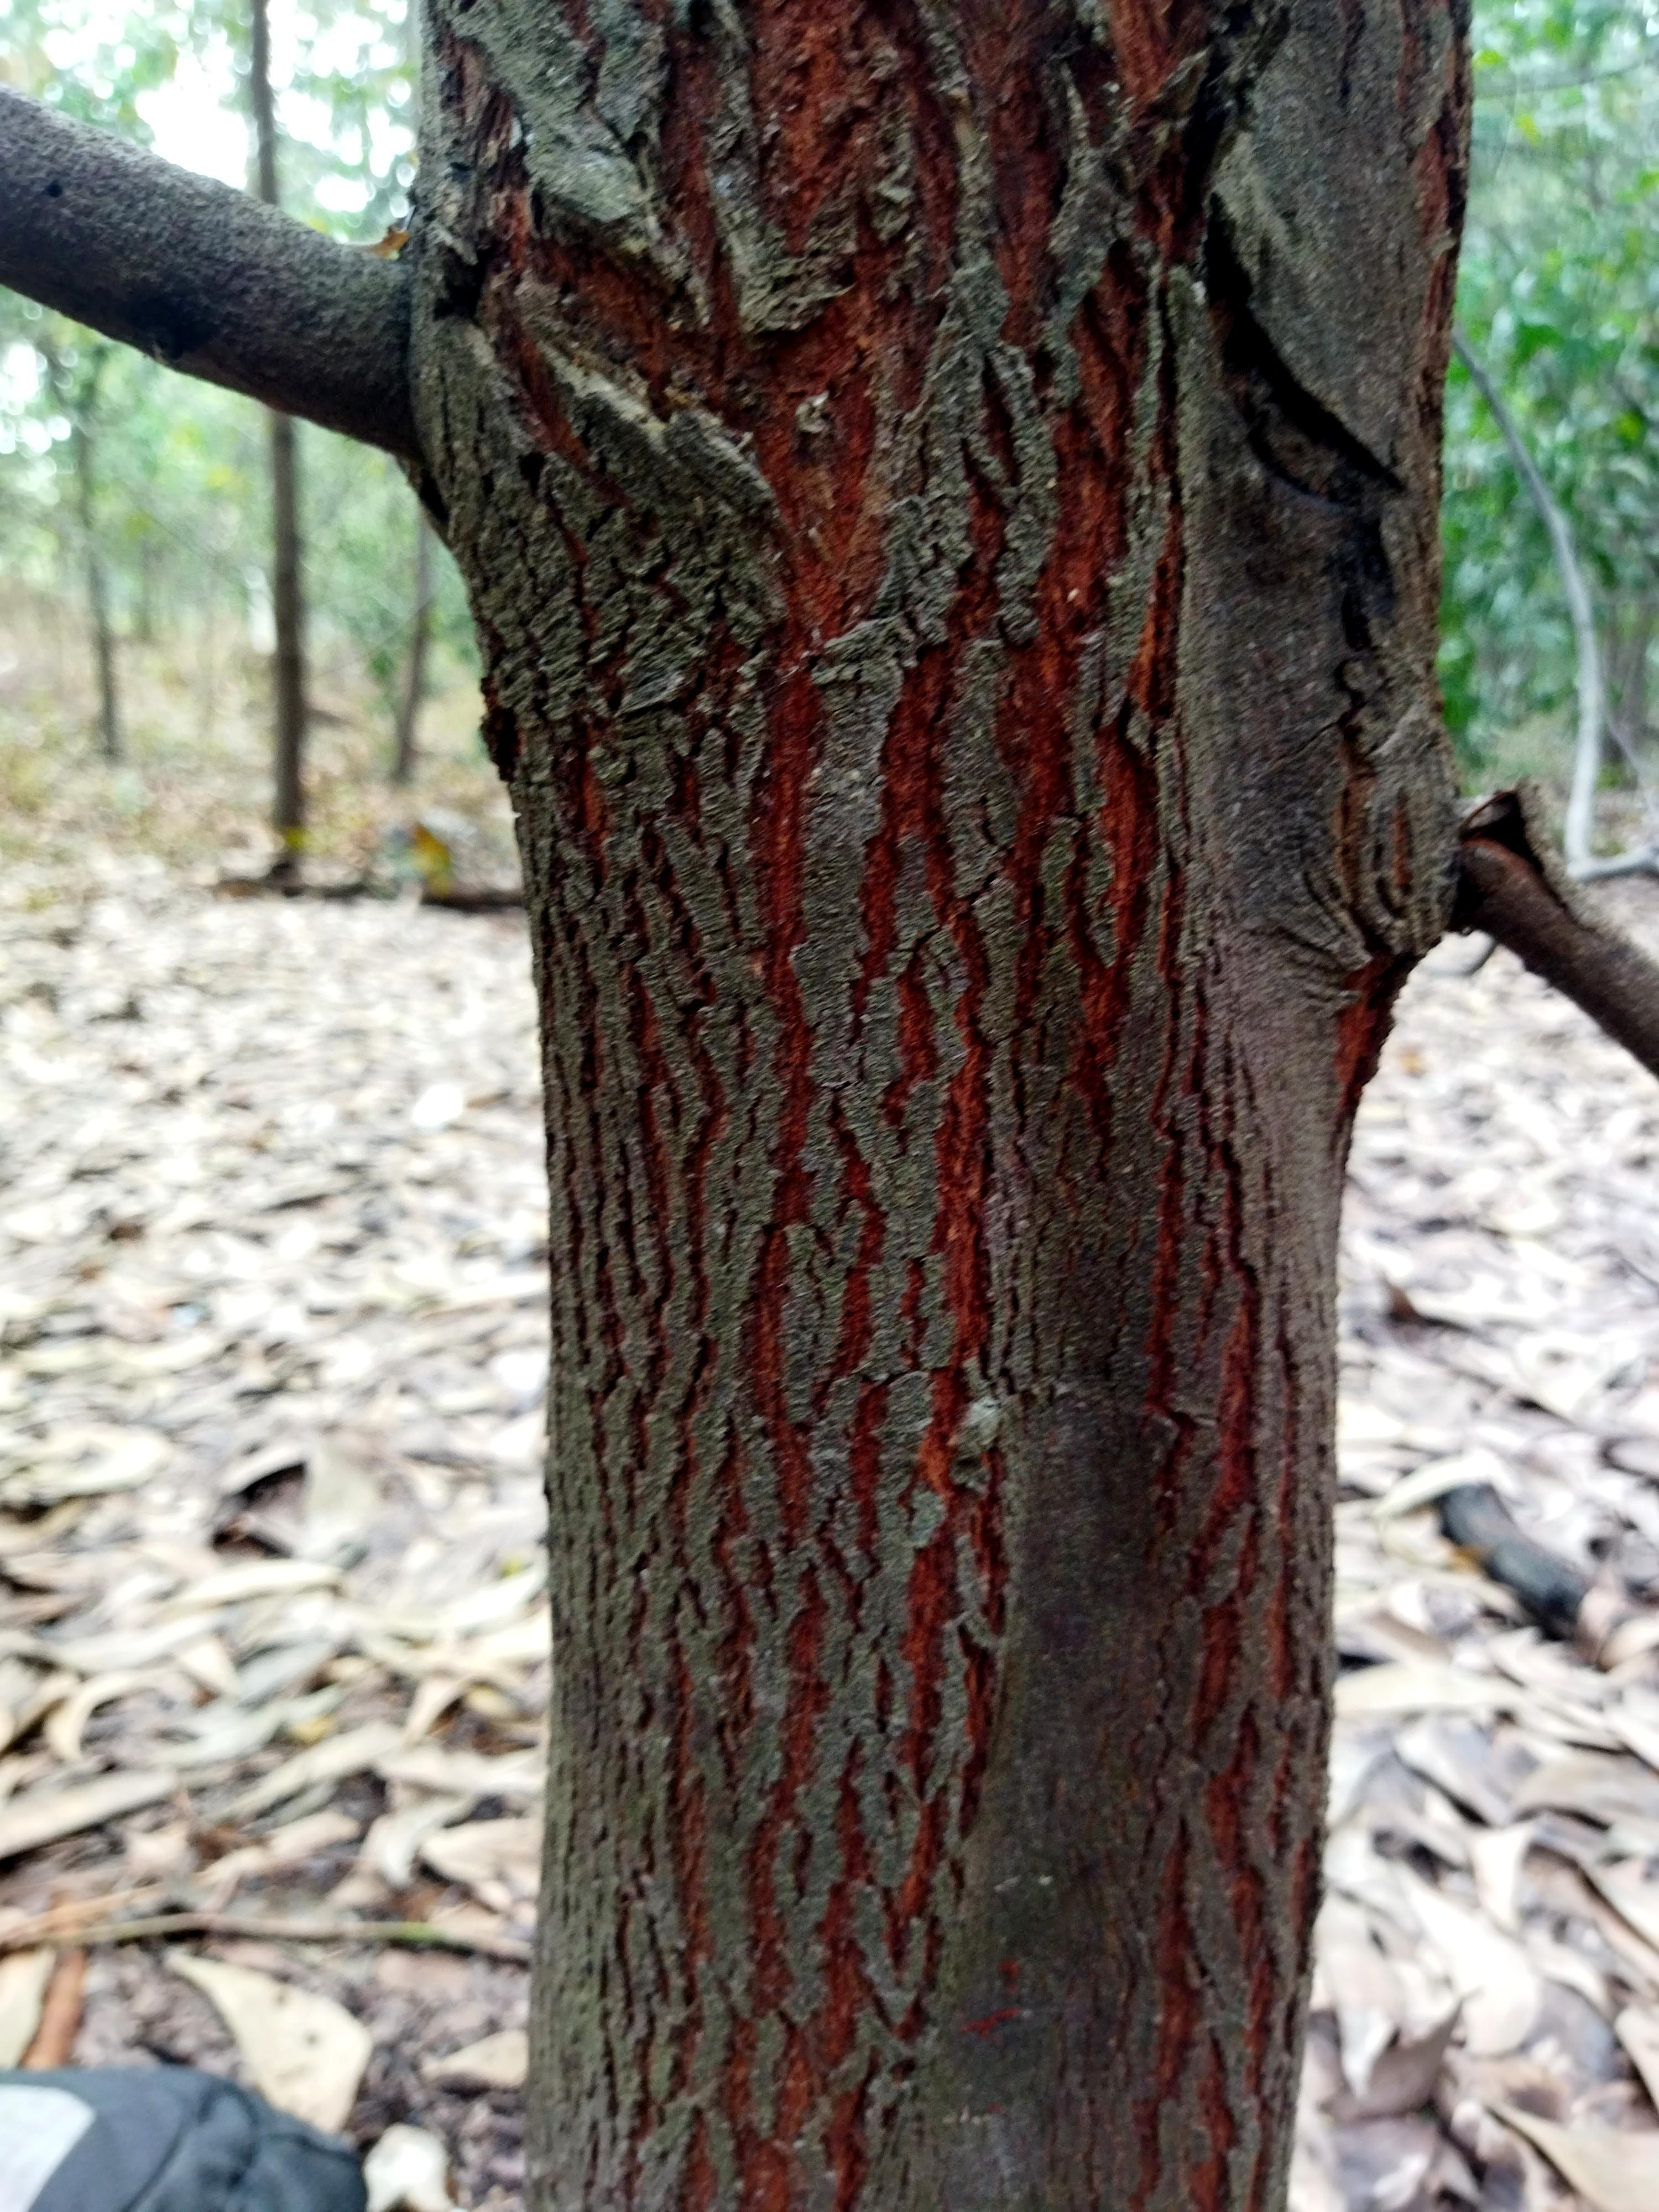Stem Deformation: (410, 0, 1359, 2212)
